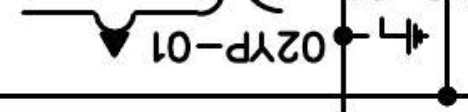115_gs: (363, 15, 432, 58)
